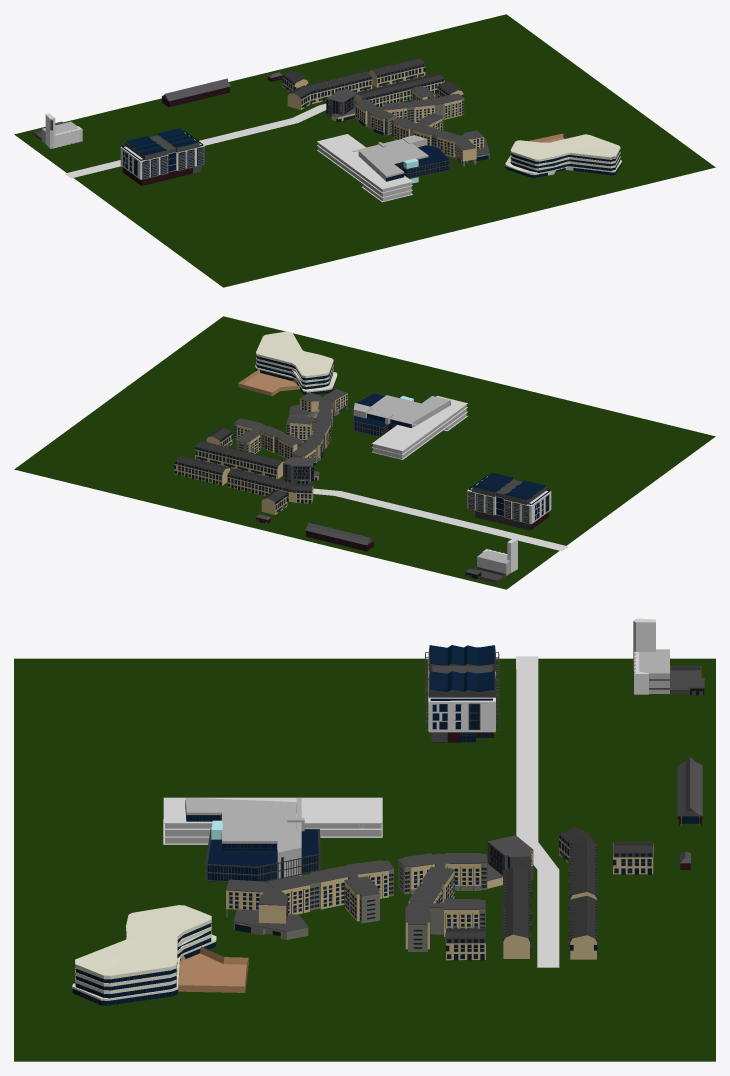
Rendered from LearningHub.glb.
3 views of the same model, one above another, from view 1: azimuth 30°, elevation 25°; view 2: azimuth 150°, elevation 25°; view 3: azimuth 270°, elevation 25° (orthographic). The views are drawn at different scales.
Visible parts, largest first — view 1: Plane.002, CHWhiteBorder, Cube.029, Cube.021, Plane.003, CreativeHubTop, SolarRoof, SecondFloorBlock, LeftBlind, Windows.025, Cube.028, TopBlock (+3 smaller); view 2: Plane.002, CHWhiteBorder, Cube.021, Cube.029, Plane.003, Cube.012, SolarRoof, RightBlind, SecondFloorBlock, Cube.028, CreativeHubTop, SHbase (+4 smaller); view 3: Plane.002, Plane.003, CHWhiteBorder, Cube.021, Cube.029, SecondFloorBlock, Cube.012, SolarRoof, CreativeHubTop, SenateBaseMainBlock, Cube.028, SHbase (+9 smaller).
Part boxes in pixels (x1,y1,x2,y2): Plane.002: [14, 14, 715, 287]; CHWhiteBorder: [510, 134, 620, 170]; Cube.029: [317, 134, 412, 202]; Cube.021: [352, 135, 428, 180]; Plane.003: [65, 80, 444, 178]; CreativeHubTop: [511, 150, 620, 172]; SolarRoof: [126, 128, 198, 155]; SecondFloorBlock: [386, 145, 449, 181]; LeftBlind: [142, 147, 204, 179]; Windows.025: [142, 147, 203, 178]; Cube.028: [318, 143, 411, 197]; TopBlock: [125, 133, 199, 160]; Plane.002: [14, 316, 715, 589]; CHWhiteBorder: [256, 331, 333, 386]; Cube.021: [353, 395, 450, 427]; Cube.029: [372, 396, 467, 459]; Plane.003: [313, 488, 568, 551]; Cube.012: [238, 369, 299, 396]; SolarRoof: [473, 472, 545, 499]; RightBlind: [467, 491, 529, 524]; SecondFloorBlock: [353, 393, 411, 436]; Cube.028: [373, 405, 466, 459]; CreativeHubTop: [256, 355, 332, 389]; SHbase: [283, 457, 313, 484]; Plane.002: [14, 658, 715, 1061]; Plane.003: [516, 656, 559, 967]; CHWhiteBorder: [75, 905, 211, 993]; Cube.021: [185, 797, 304, 878]; Cube.029: [163, 797, 382, 844]; SecondFloorBlock: [186, 815, 318, 881]; Cube.012: [178, 946, 248, 992]; SolarRoof: [430, 645, 494, 692]; CreativeHubTop: [76, 923, 210, 998]; SenateBaseMainBlock: [429, 671, 495, 732]; Cube.028: [165, 823, 381, 836]; SHbase: [487, 835, 533, 886].
Size of the model in its own units: 408 by 24.87 by 299.
